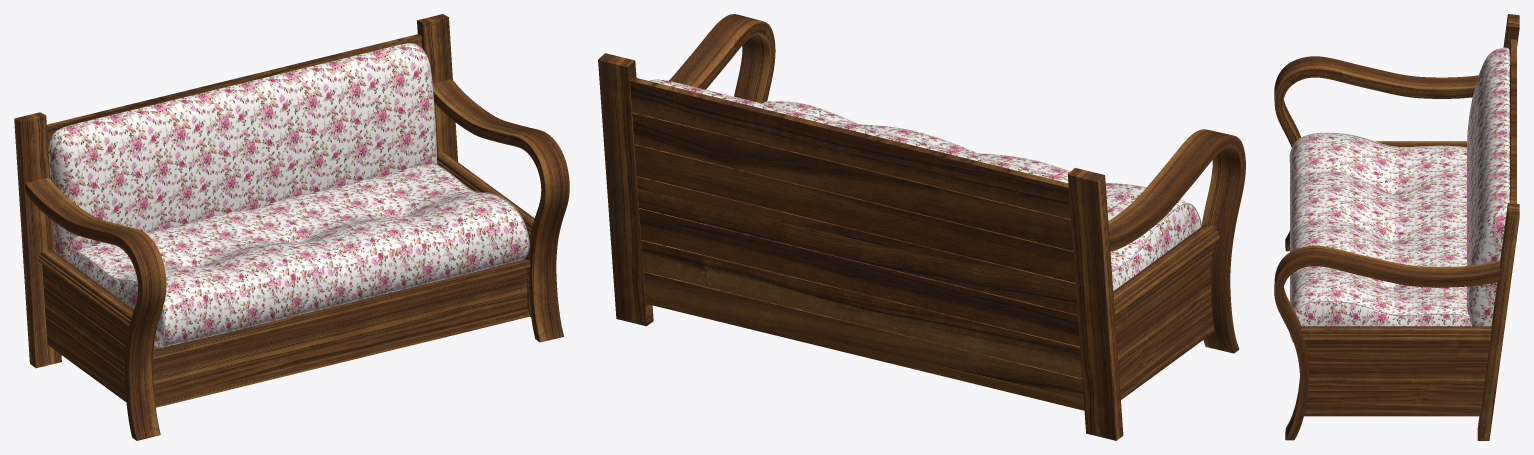
Rendered from Sofa1.fbx.
3 views of the same model, side by side, from view 1: azimuth 30°, elevation 25°; view 2: azimuth 150°, elevation 25°; view 3: azimuth 270°, elevation 25° (orthographic). The views are drawn at different scales.
Visible parts, largest first — view 1: Sofa:Plane001, Sofa:Box016, Sofa:Box015, Sofa:Line001, Sofa:Line016, Sofa:Line002, Sofa:Box032, Sofa:Box035, Sofa:Box013, Sofa:Box034, Sofa:Box012, Sofa:Line015 (+1 smaller); view 2: Sofa:Box012, Sofa:Line001, Sofa:Box032, Sofa:Box034, Sofa:Line002, Sofa:Box016, Sofa:Line016, Sofa:Line015, Sofa:Plane001; view 3: Sofa:Box016, Sofa:Line005, Sofa:Plane001, Sofa:Line016, Sofa:Line001, Sofa:Box034, Sofa:Line006, Sofa:Box012, Sofa:seam, Sofa:Line015, Sofa:Box032.
Part boxes in pixels (<box>): Sofa:Plane001: <box>48,43,437,260</box>; Sofa:Box016: <box>67,163,528,347</box>; Sofa:Box015: <box>153,268,527,399</box>; Sofa:Line001: <box>25,178,166,440</box>; Sofa:Line016: <box>432,79,569,342</box>; Sofa:Line002: <box>42,264,128,402</box>; Sofa:Box032: <box>14,112,61,368</box>; Sofa:Box035: <box>153,258,530,358</box>; Sofa:Box013: <box>155,309,529,407</box>; Sofa:Box034: <box>417,14,458,161</box>; Sofa:Box012: <box>47,34,421,150</box>; Sofa:Line015: <box>37,249,133,327</box>; Sofa:Box012: <box>630,77,1084,410</box>; Sofa:Line001: <box>1108,129,1245,353</box>; Sofa:Box032: <box>1067,168,1123,440</box>; Sofa:Box034: <box>598,53,653,326</box>; Sofa:Line002: <box>1115,243,1214,399</box>; Sofa:Box016: <box>764,101,1200,290</box>; Sofa:Line016: <box>669,14,775,103</box>; Sofa:Line015: <box>1113,224,1219,314</box>; Sofa:Plane001: <box>649,79,1068,182</box>; Sofa:Box016: <box>1290,133,1471,326</box>; Sofa:Line005: <box>1304,340,1490,416</box>; Sofa:Plane001: <box>1467,47,1510,326</box>; Sofa:Line016: <box>1274,245,1500,440</box>; Sofa:Line001: <box>1274,56,1478,251</box>; Sofa:Box034: <box>1477,203,1519,440</box>; Sofa:Line006: <box>1301,326,1491,340</box>; Sofa:Box012: <box>1509,39,1516,203</box>; Sofa:seam: <box>1289,132,1469,342</box>; Sofa:Line015: <box>1375,141,1466,147</box>; Sofa:Box032: <box>1503,14,1519,48</box>.
Bounding box in the file's own units: 56.95 × 29.86 × 29.38.
